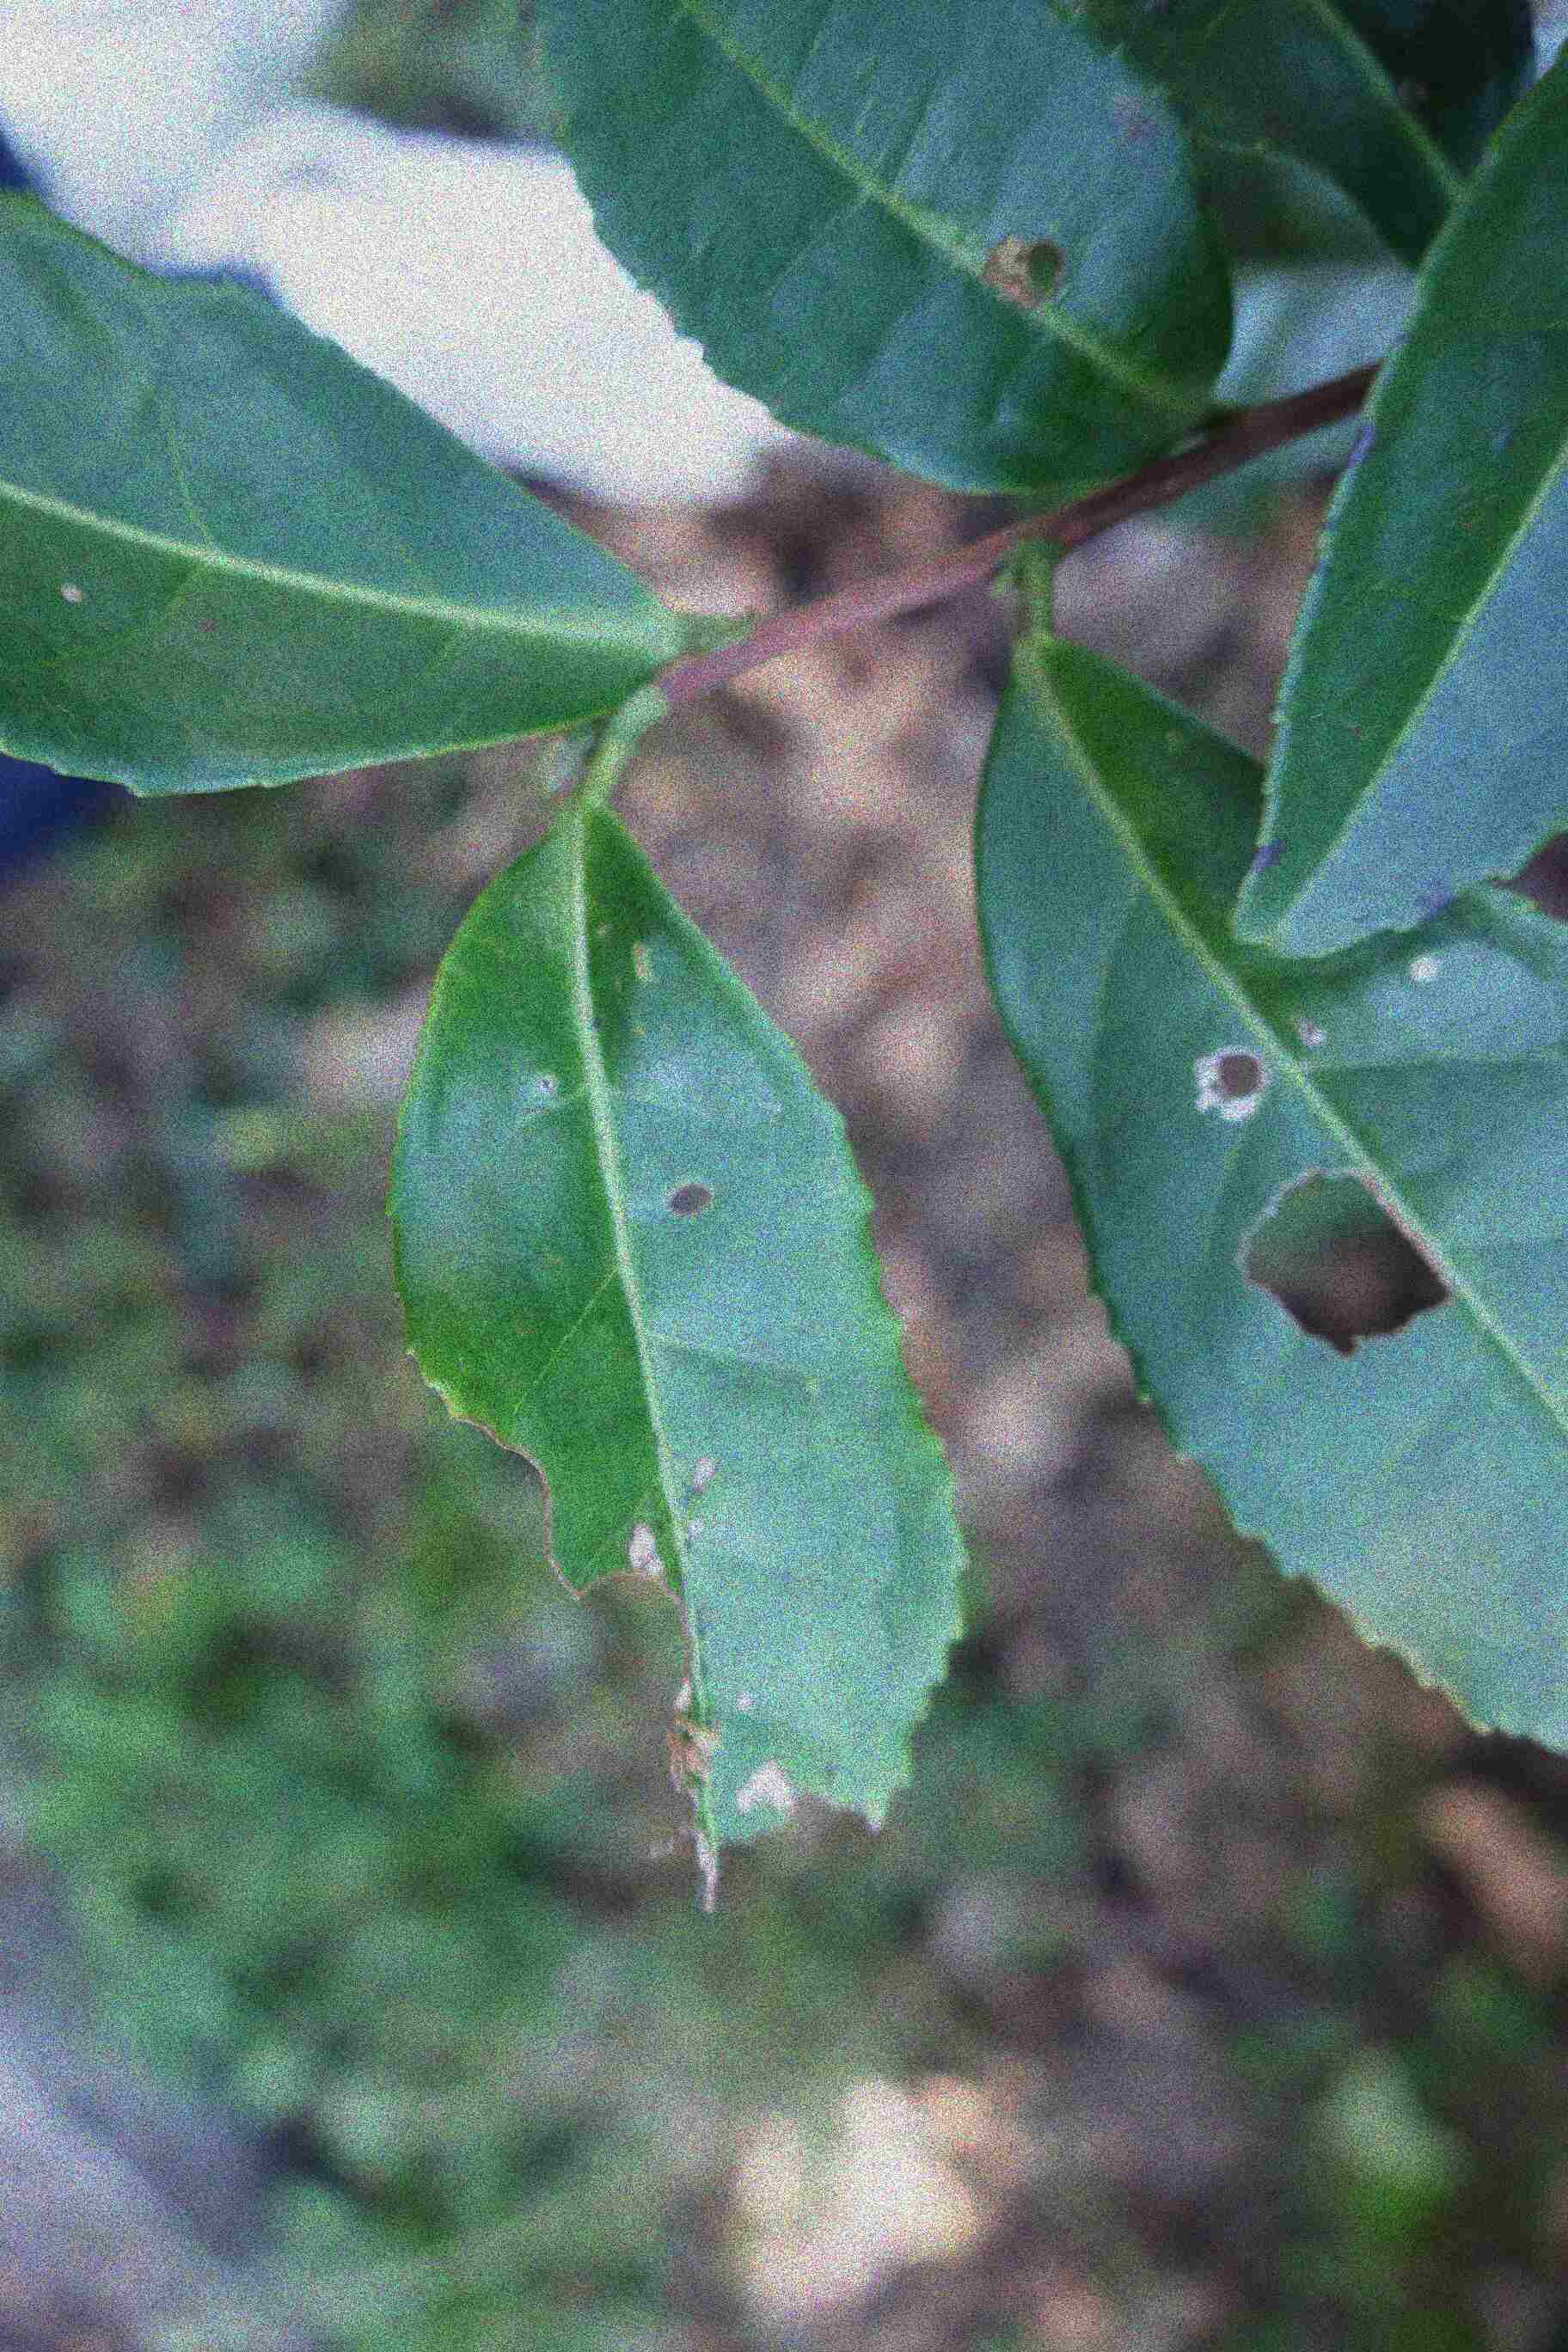chihuo_high: (383, 793, 968, 1914), (980, 639, 1564, 1760)
